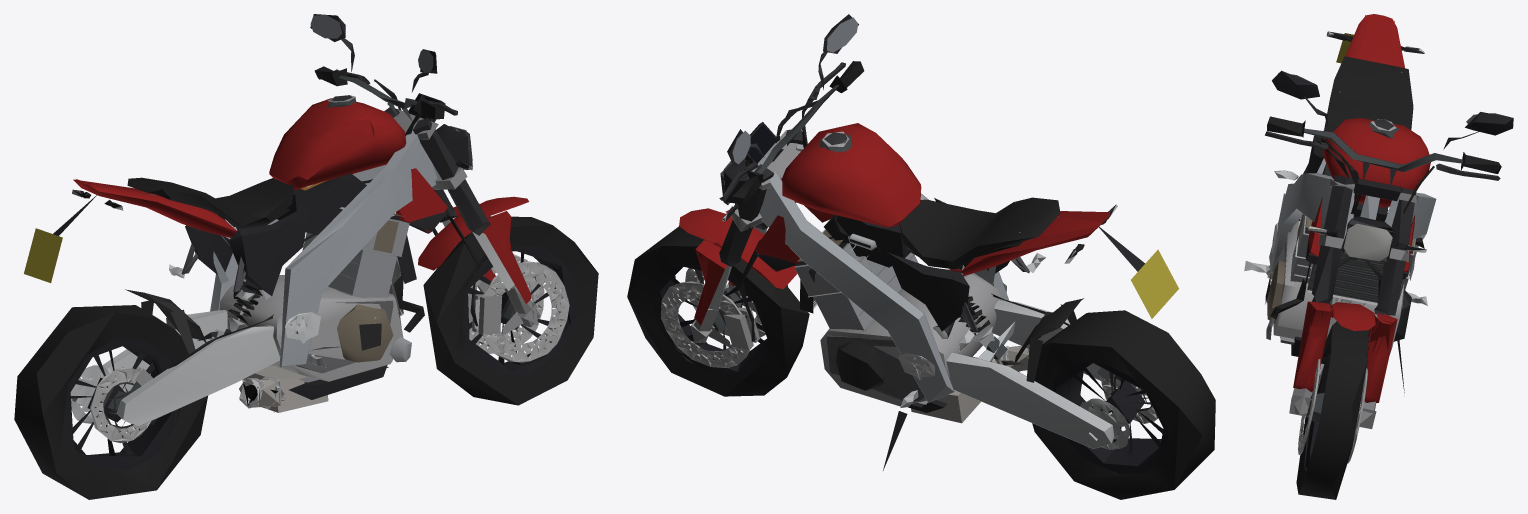
File: SM_Prop_house_bike_1_LOD1.glb
3 views of the same model, side by side, from view 1: azimuth 30°, elevation 25°; view 2: azimuth 150°, elevation 25°; view 3: azimuth 270°, elevation 25° (orthographic). The views are drawn at different scales.
Visible parts, largest first — view 1: SM_Prop_house_bike_1_LOD1; view 2: SM_Prop_house_bike_1_LOD1; view 3: SM_Prop_house_bike_1_LOD1.
Part boxes in pixels (x1,y1,x2,y2): SM_Prop_house_bike_1_LOD1: (14,14,598,499); SM_Prop_house_bike_1_LOD1: (627,14,1215,499); SM_Prop_house_bike_1_LOD1: (1244,14,1513,499).
Size of the model in its own units: 2.05 by 1.34 by 0.8675.
